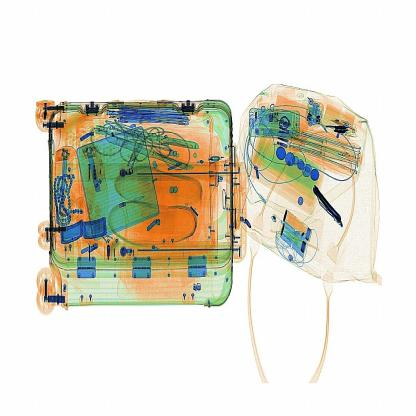knife: (313, 182, 350, 228)
